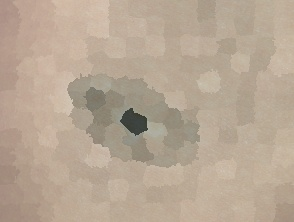vitiligo: (32, 27, 258, 221)
